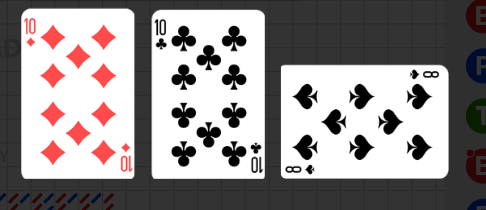10C: (248, 140, 263, 175)
10D: (24, 17, 37, 49)
8S: (407, 68, 440, 81)
